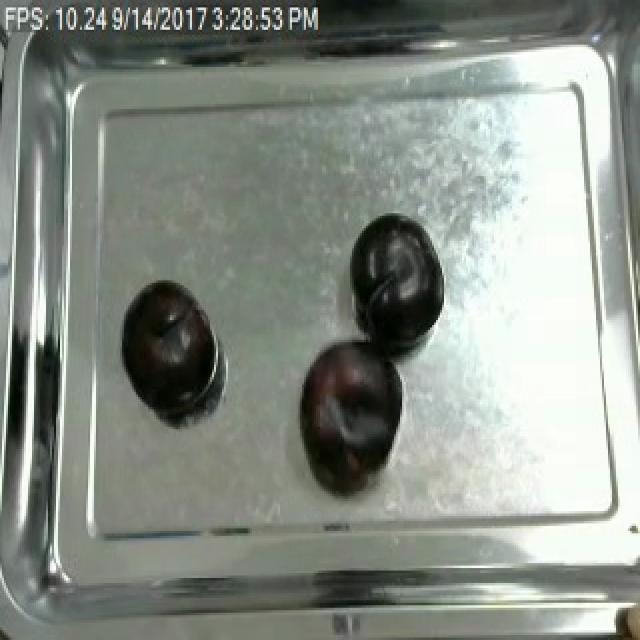Fruit: (294, 335, 404, 471), (346, 208, 446, 352), (118, 278, 216, 414), (600, 595, 640, 640)
